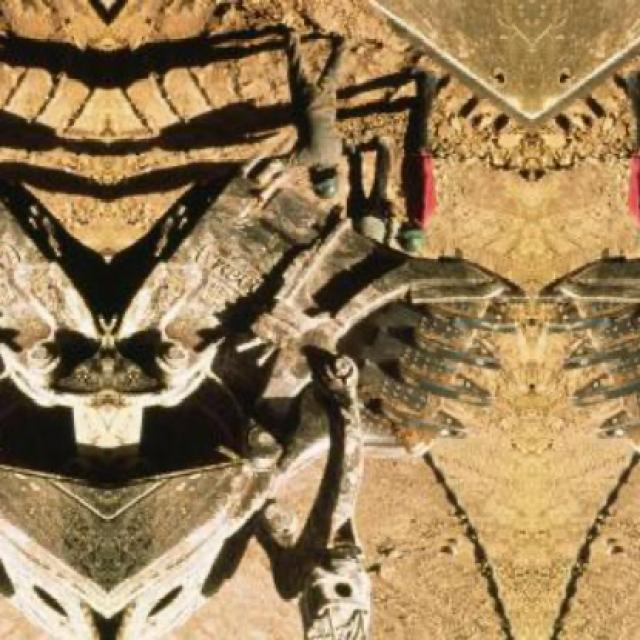con casco: (270, 137, 360, 210), (381, 192, 464, 266)
